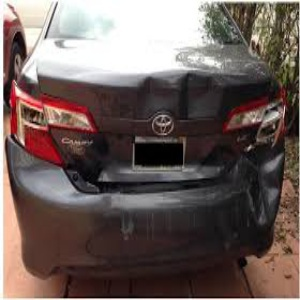bumper: (110, 187, 280, 252)
